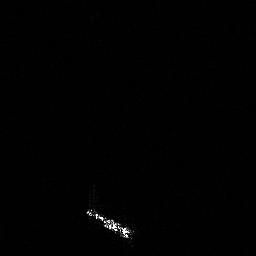ship: (82, 204, 137, 242)
